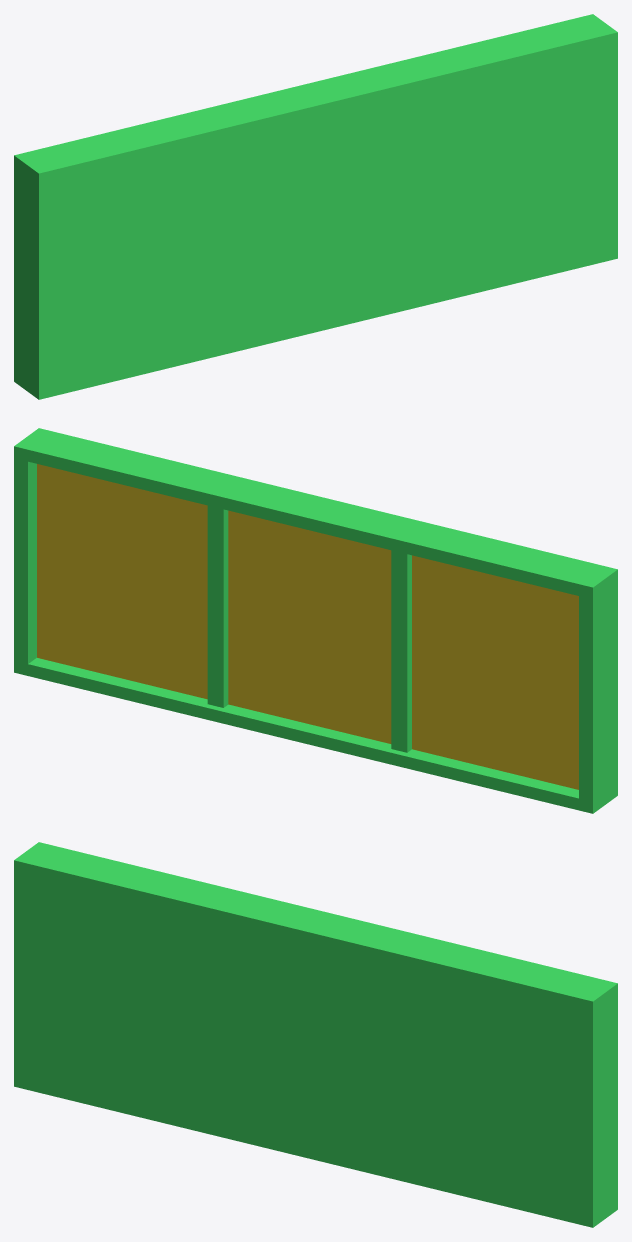
Rendered from Vent_12.fbx.
3 renders of one model, top to bottom at view 1: azimuth 30°, elevation 25°; view 2: azimuth 150°, elevation 25°; view 3: azimuth 330°, elevation 25°, orthographic.
Parts seen in each view (by area): view 1: Vent_12; view 2: Vent_12; view 3: Vent_12.
Part boxes in pixels (box(x1,y1,x2,y2)): Vent_12: box(14, 14, 617, 399); Vent_12: box(14, 428, 617, 813); Vent_12: box(14, 842, 617, 1227).
Size of the model in its own units: 66.68 by 24.9 by 4.97.
